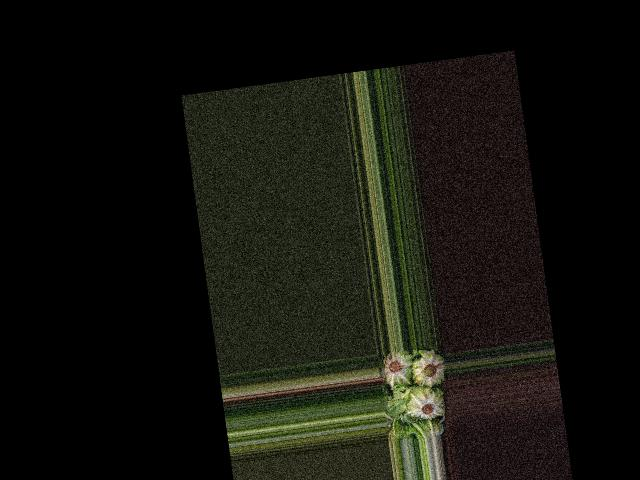lettuce: (381, 349, 416, 388)
